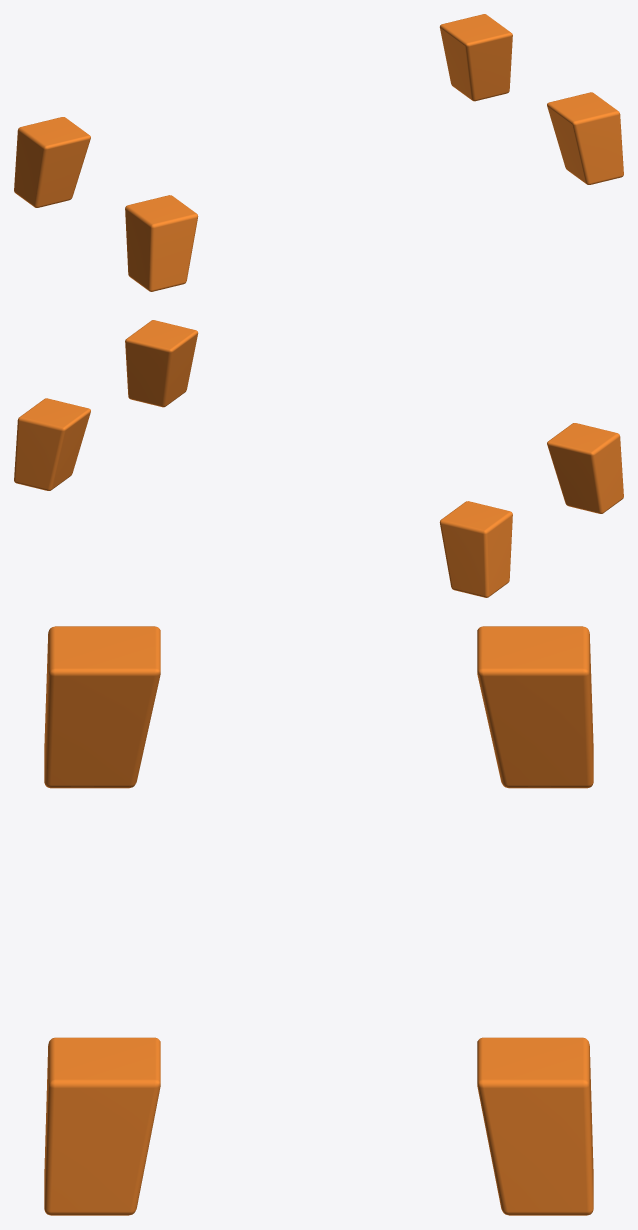
File: feet.glb
3 renders of one model, top to bottom at view 1: azimuth 30°, elevation 25°; view 2: azimuth 150°, elevation 25°; view 3: azimuth 270°, elevation 25°, orthographic. The views are drawn at different scales.
Visible parts, largest first — view 1: Left front orange foot, Left rear orange foot, Right front orange foot, Right rear orange foot; view 2: Left rear orange foot, Left front orange foot, Right rear orange foot, Right front orange foot; view 3: Right front orange foot, Right rear orange foot, Left front orange foot, Left rear orange foot.
Part boxes in pixels (x1=…): Left front orange foot: x1=125, y1=195, x2=198, y2=291; Left rear orange foot: x1=14, y1=117, x2=90, y2=207; Right front orange foot: x1=547, y1=92, x2=623, y2=184; Right rear orange foot: x1=439, y1=14, x2=512, y2=101; Left rear orange foot: x1=439, y1=501, x2=512, y2=597; Left front orange foot: x1=547, y1=423, x2=623, y2=513; Right rear orange foot: x1=14, y1=398, x2=90, y2=490; Right front orange foot: x1=125, y1=320, x2=198, y2=407; Right front orange foot: x1=44, y1=1037, x2=160, y2=1215; Right rear orange foot: x1=477, y1=1037, x2=593, y2=1215; Left front orange foot: x1=44, y1=626, x2=160, y2=788; Left rear orange foot: x1=477, y1=626, x2=593, y2=788.
Size of the model in its own units: 1.14 by 0.152 by 0.5706.
